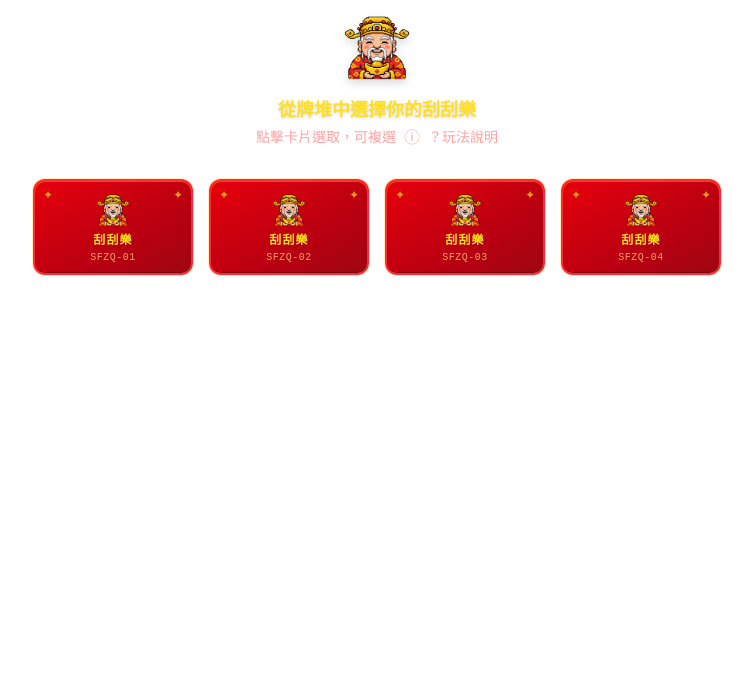
Test case: CardPile › 應顯示目前選取數量
Click the button "刮刮樂".
click(113, 227)  # box [33,179,193,275]
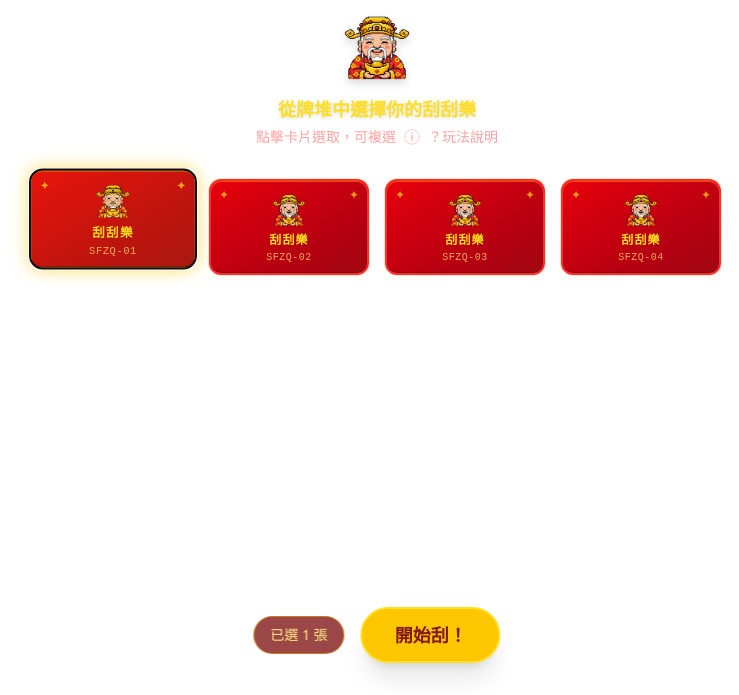
Click the button "刮刮樂".
click(289, 227)  # box [209,179,369,275]
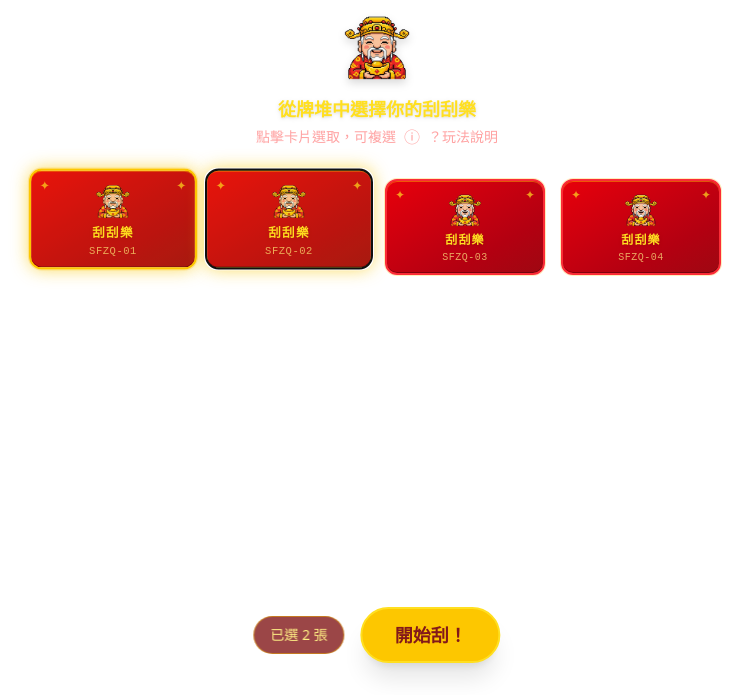
Now the text "已選 2 張" is shown, box [253,616,345,654]
